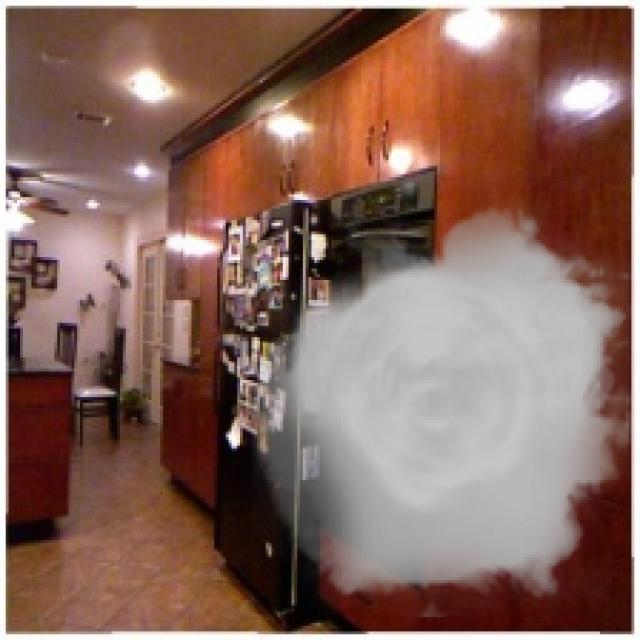smoke: (252, 194, 632, 617)
